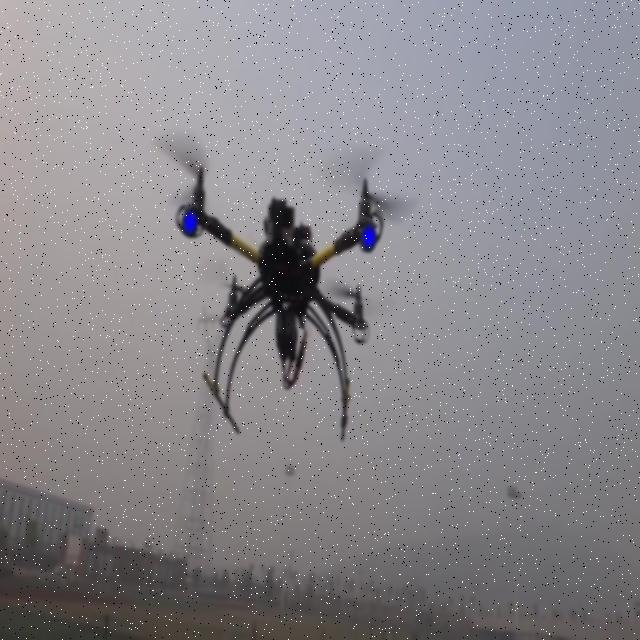UAV: (154, 138, 414, 442)
